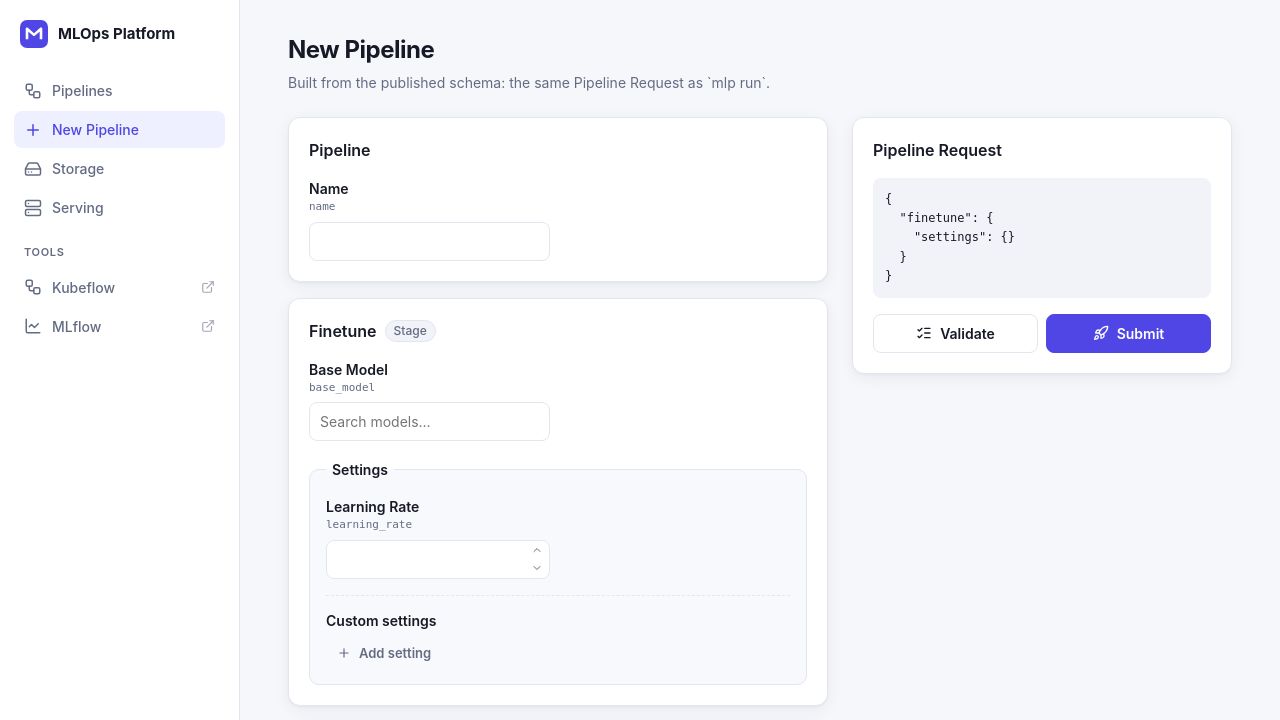
Test: the form shows what the request still downloads as it changes
The image size is (1280, 720).
Step 1. Type "hf:x/new" into the dropdown labelled "Base Model base_model" → coordinates (430, 422), box [309, 402, 550, 441]
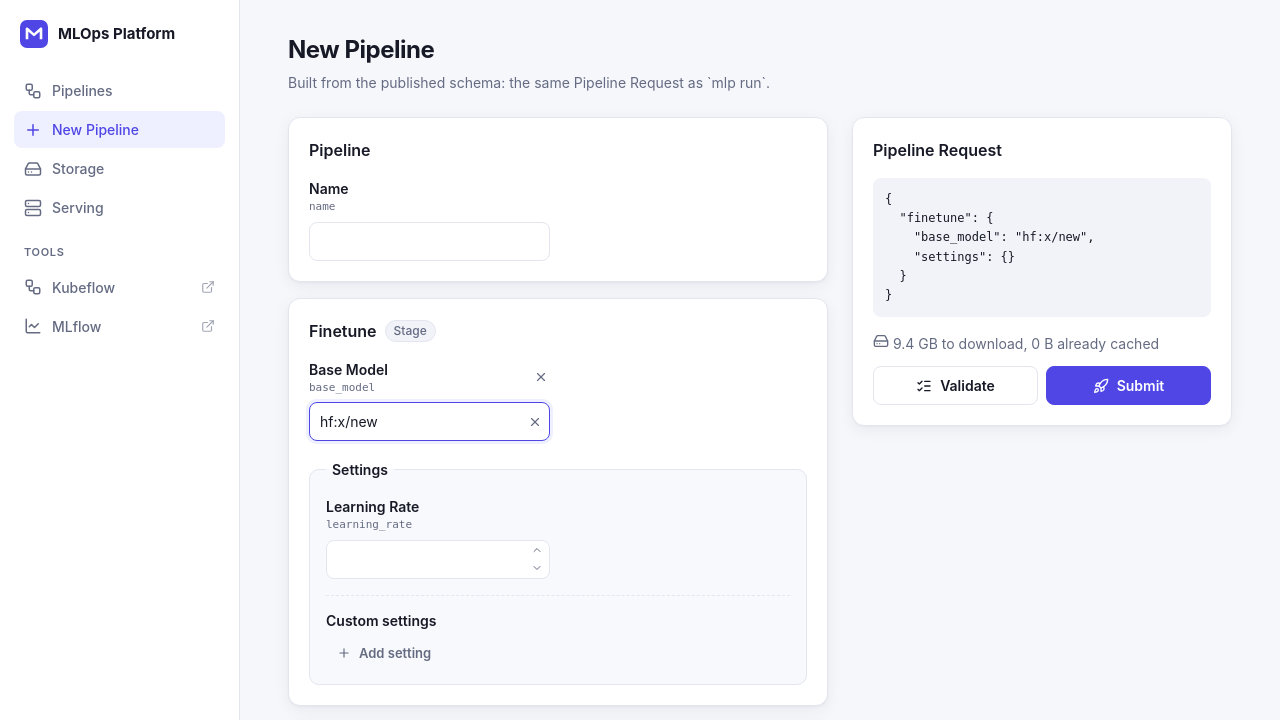
Check: the text "9.4 GB to download, 0 B already cached" is shown, box [873, 333, 1159, 352]
Step 2. Replace the text in the dropdown labelled "Base Model base_model" with "hf:x/cached" → coordinates (430, 422), box [309, 402, 550, 441]
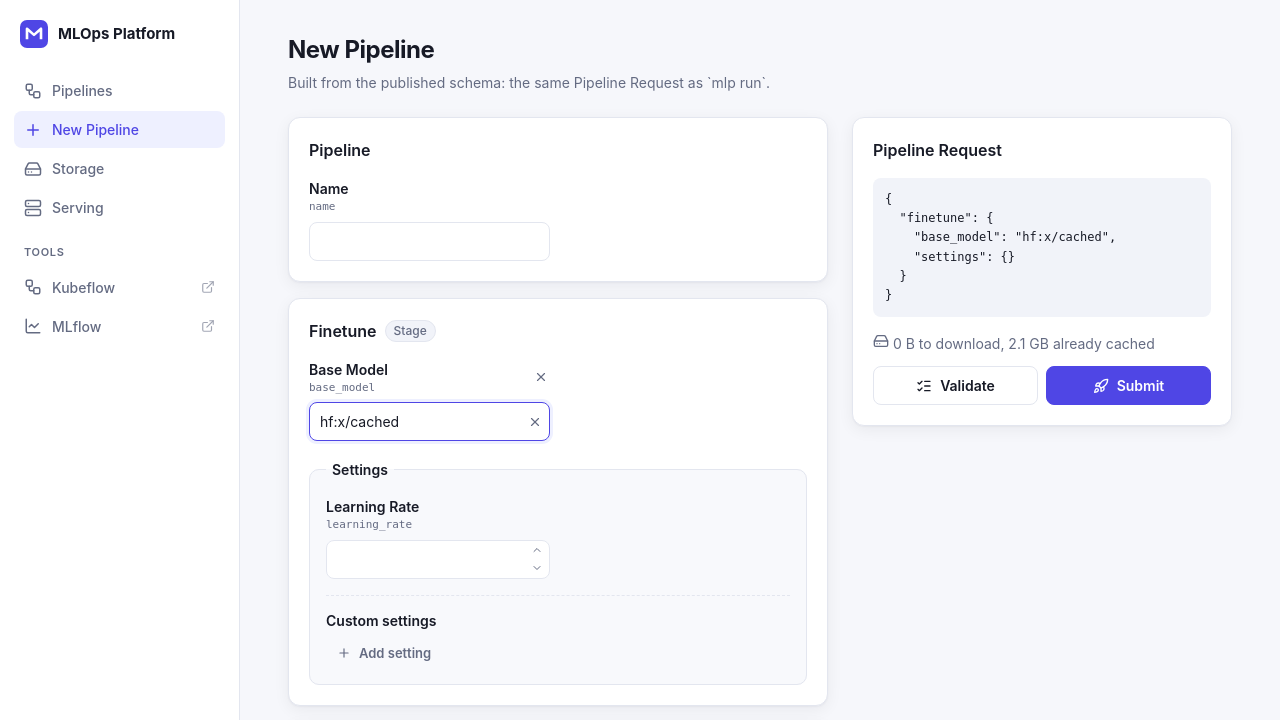
Check: the text "0 B to download, 2.1 GB already cached" is shown, box [873, 333, 1155, 352]
